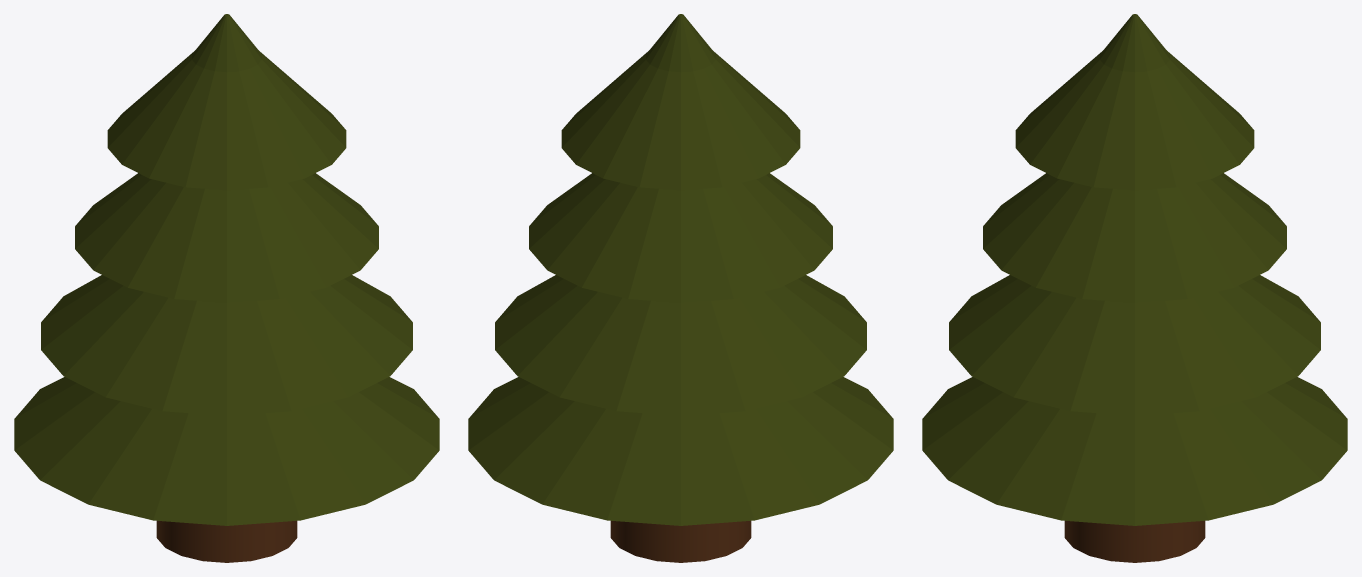
The model's file is GranTre.FBX.
3 renders of one model, left to right at view 1: azimuth 30°, elevation 25°; view 2: azimuth 150°, elevation 25°; view 3: azimuth 270°, elevation 25°, orthographic.
Parts seen in each view (by area): view 1: Cylinder001; view 2: Cylinder001; view 3: Cylinder001.
Part boxes in pixels (left/top/right/bottom): Cylinder001: left=14, top=14, right=439, bottom=562; Cylinder001: left=468, top=14, right=893, bottom=562; Cylinder001: left=922, top=14, right=1347, bottom=562.
Bounding box in the file's own units: 2.38 × 3.15 × 2.35.
